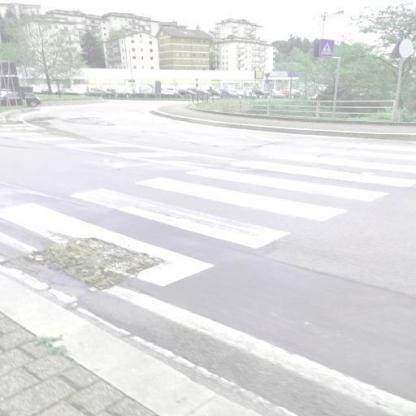crosswalk: (44, 176, 353, 251)
